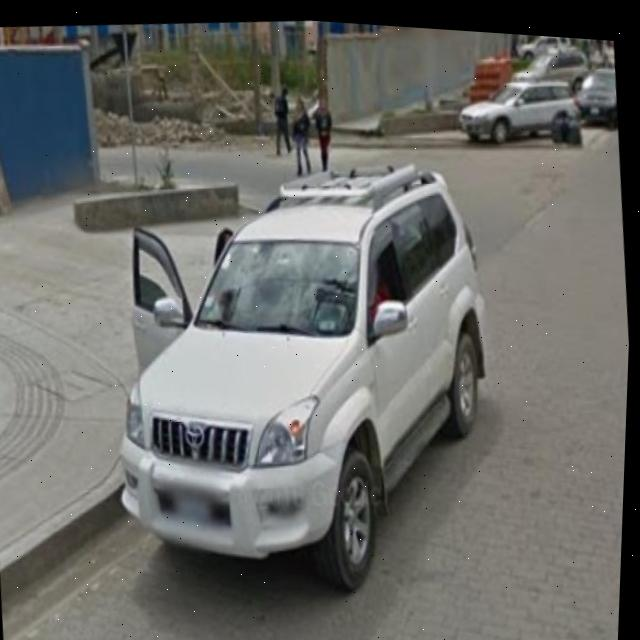vehicle: (105, 135, 513, 633)
